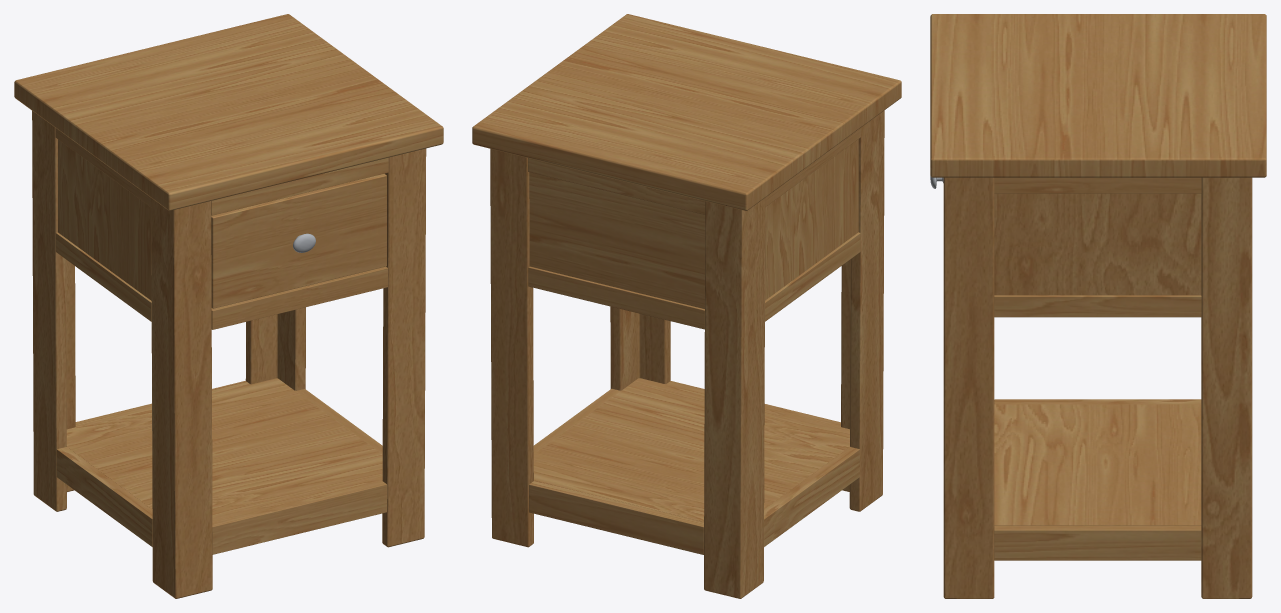
The picture shows the model from 3 angles, left to right: view 1: azimuth 30°, elevation 25°; view 2: azimuth 150°, elevation 25°; view 3: azimuth 270°, elevation 25°; orthographic projection. The views are drawn at different scales.
Parts seen in each view (by area): view 1: RootNode; view 2: RootNode; view 3: RootNode.
Part boxes in pixels (box(x1,y1,x2,y2)): RootNode: box(14, 14, 443, 598); RootNode: box(472, 14, 901, 598); RootNode: box(930, 14, 1266, 598).
Bounding box in the file's own units: 0.4277 × 0.6138 × 0.4181.
1 material, 1 textured.
